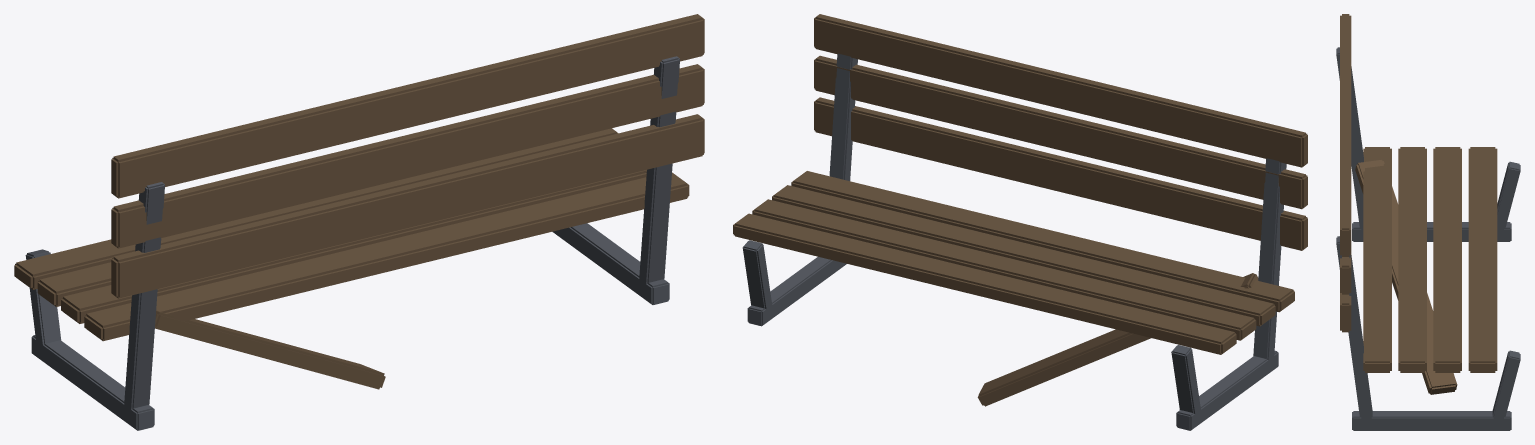
File: bench.glb
3 renders of one model, left to right at view 1: azimuth 30°, elevation 25°; view 2: azimuth 150°, elevation 25°; view 3: azimuth 270°, elevation 25°, orthographic. The views are drawn at different scales.
Visible parts, largest first — view 1: ok_mesh, broken_mesh; view 2: ok_mesh, broken_mesh; view 3: ok_mesh, broken_mesh.
Boxes of the visible parts, left/top/right/bottom form: ok_mesh: left=17, top=14, right=704, bottom=430; broken_mesh: left=14, top=21, right=704, bottom=430; ok_mesh: left=733, top=14, right=1307, bottom=429; broken_mesh: left=733, top=17, right=1307, bottom=430; ok_mesh: left=1336, top=14, right=1520, bottom=430; broken_mesh: left=1336, top=47, right=1511, bottom=416.
Size of what is drawn, in the model's own units: 1.6 by 0.9104 by 0.5779.
